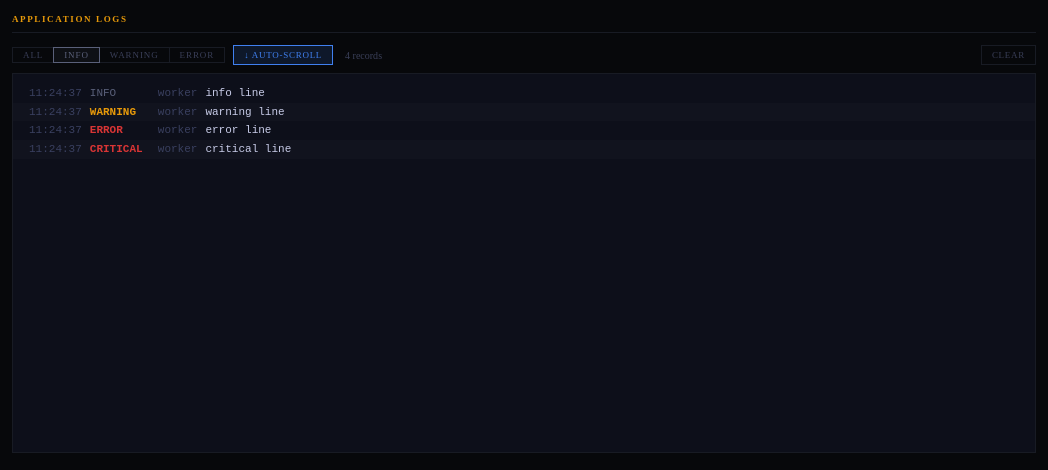
it: LogViewer — level filter › shows CRITICAL when filtering on ERROR, since it outranks it
The image size is (1048, 470).
Expected: the text "error line" is shown, [205,121,271,140]
Click the button "ERROR": (197, 55) [169,47,225,63]
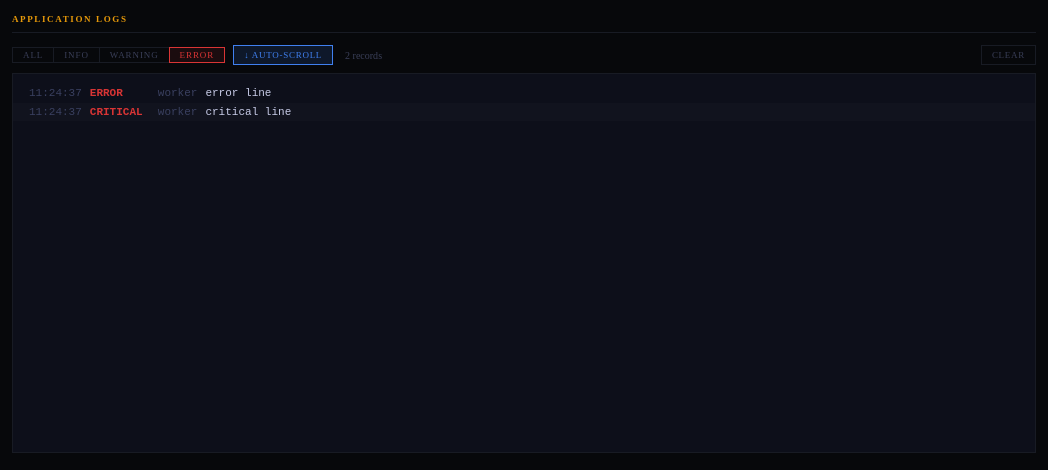
Now the text "warning line" is gone
Now the text "critical line" is shown, box [205,103,291,121]
Now the text "error line" is shown, box [205,84,271,103]
